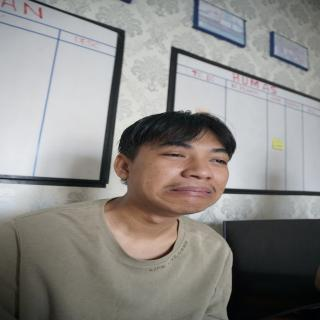Sedih: (128, 124, 237, 219)
